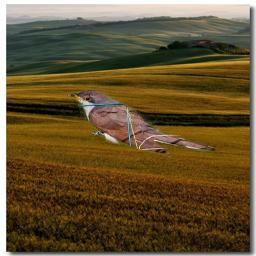Cuckoo: (65, 86, 220, 161)
